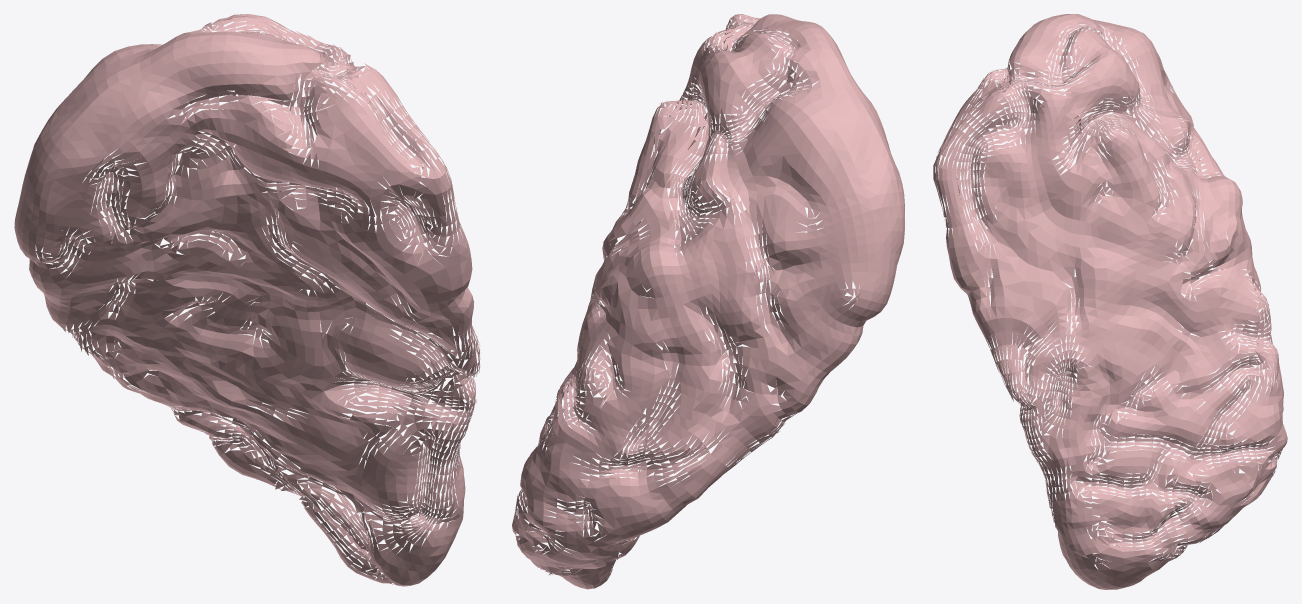
File: 3d-vh-m-palatine-tonsil-l_0.8.glb
3 renders of one model, left to right at view 1: azimuth 30°, elevation 25°; view 2: azimuth 150°, elevation 25°; view 3: azimuth 270°, elevation 25°, orthographic. The views are drawn at different scales.
Parts seen in each view (by area): view 1: VH_M_palatine_tonsil_L; view 2: VH_M_palatine_tonsil_L; view 3: VH_M_palatine_tonsil_L.
Boxes of the visible parts, x1,y1,x2,y2 form: VH_M_palatine_tonsil_L: [14, 14, 480, 586]; VH_M_palatine_tonsil_L: [512, 14, 904, 589]; VH_M_palatine_tonsil_L: [933, 14, 1287, 589].
Bounding box in the file's own units: 0.0163 × 0.0243 × 0.0159.
